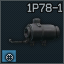NPZ 1P78-1 2.8x scope: (0, 0, 64, 64)
